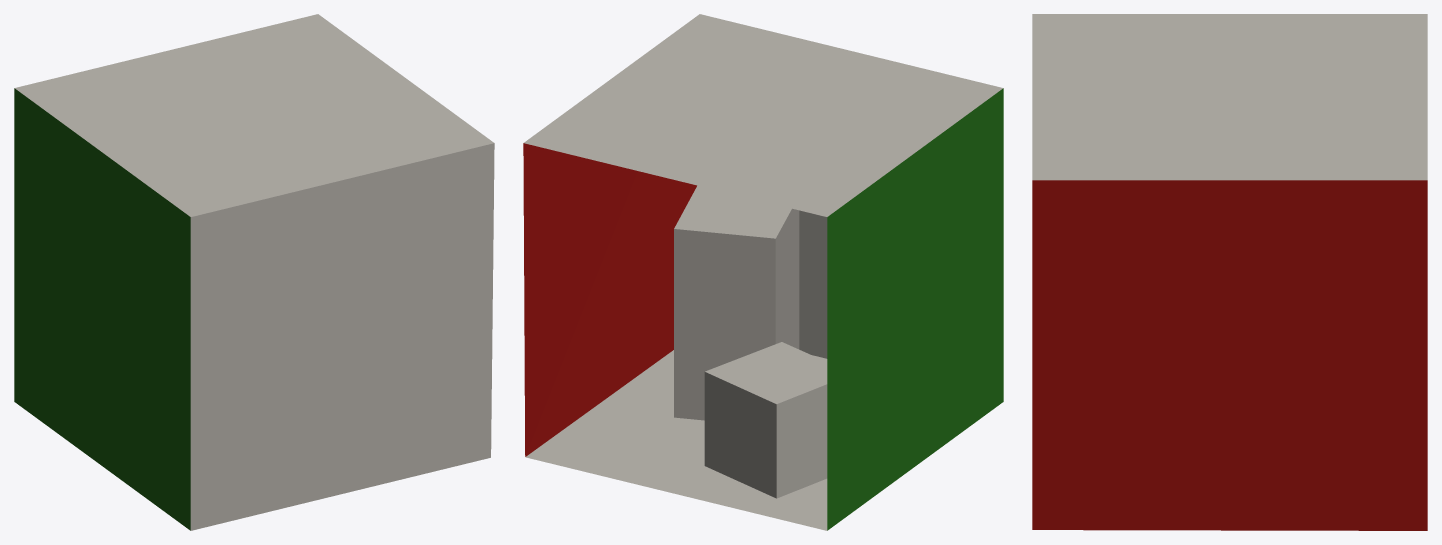
File: cornell_box.obj
The picture shows the model from 3 angles, left to right: view 1: azimuth 30°, elevation 25°; view 2: azimuth 150°, elevation 25°; view 3: azimuth 270°, elevation 25°; orthographic projection. The views are drawn at different scales.
Parts seen in each view (by area): view 1: back_wall, green_wall, ceiling; view 2: green_wall, ceiling, red_wall, tall_block, floor, short_block, back_wall; view 3: red_wall, ceiling.
Boxes of the visible parts, x1,y1,x2,y2 form: back_wall: (190,143,494,530); green_wall: (14,88,190,530); ceiling: (14,14,493,216); green_wall: (827,88,1003,530); ceiling: (524,14,1003,216); red_wall: (523,143,696,456); tall_block: (674,185,799,420); floor: (525,350,827,530); short_block: (704,342,827,498); back_wall: (799,210,827,358); red_wall: (1032,180,1427,530); ceiling: (1032,14,1427,180).
Size of the model in its own units: 556 by 549 by 559.
